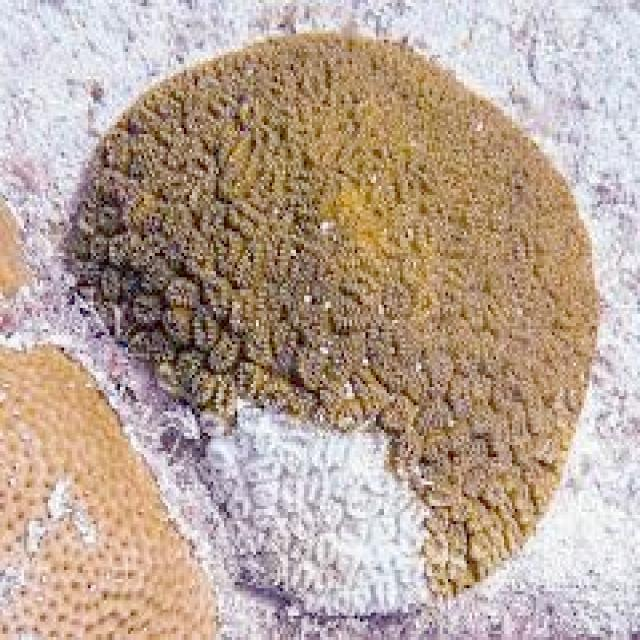Coral: (61, 25, 604, 620), (0, 338, 219, 640), (0, 195, 31, 300)
